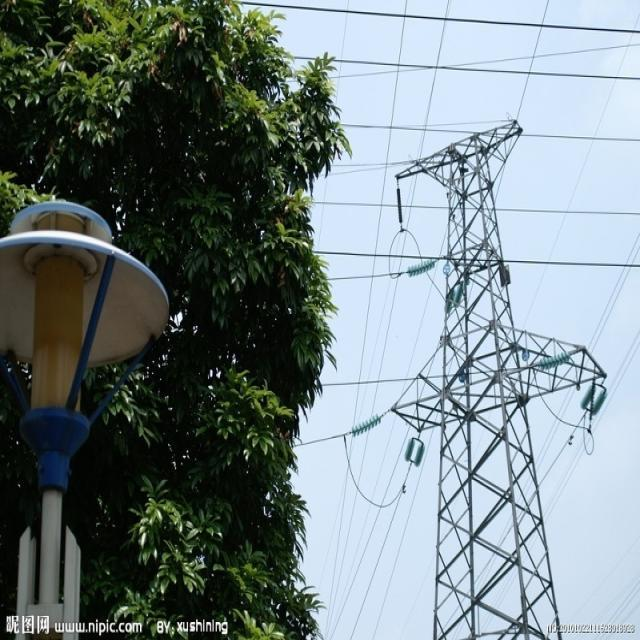non-critical vegetation: (422, 140, 584, 614)
